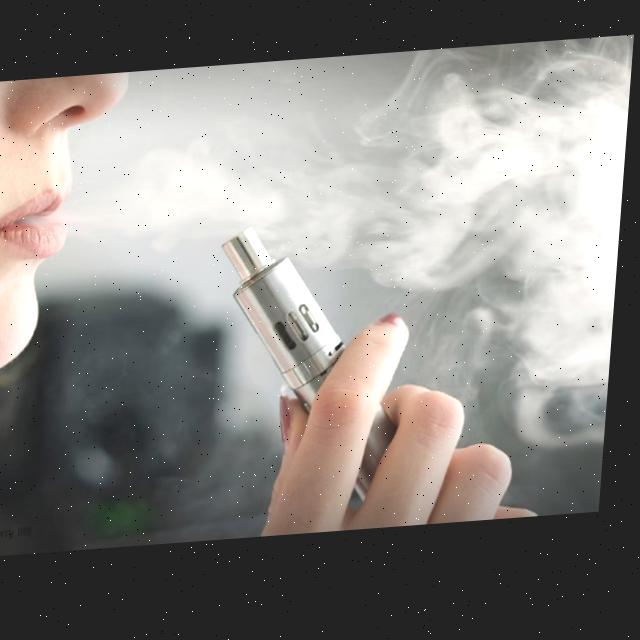vape: (208, 220, 416, 521)
